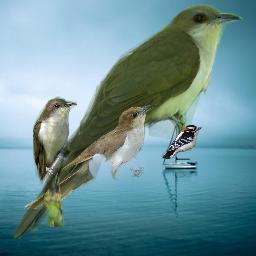Cuckoo: (13, 4, 243, 243), (24, 104, 157, 210), (33, 94, 77, 227)
Woodpecker: (161, 125, 202, 159)
